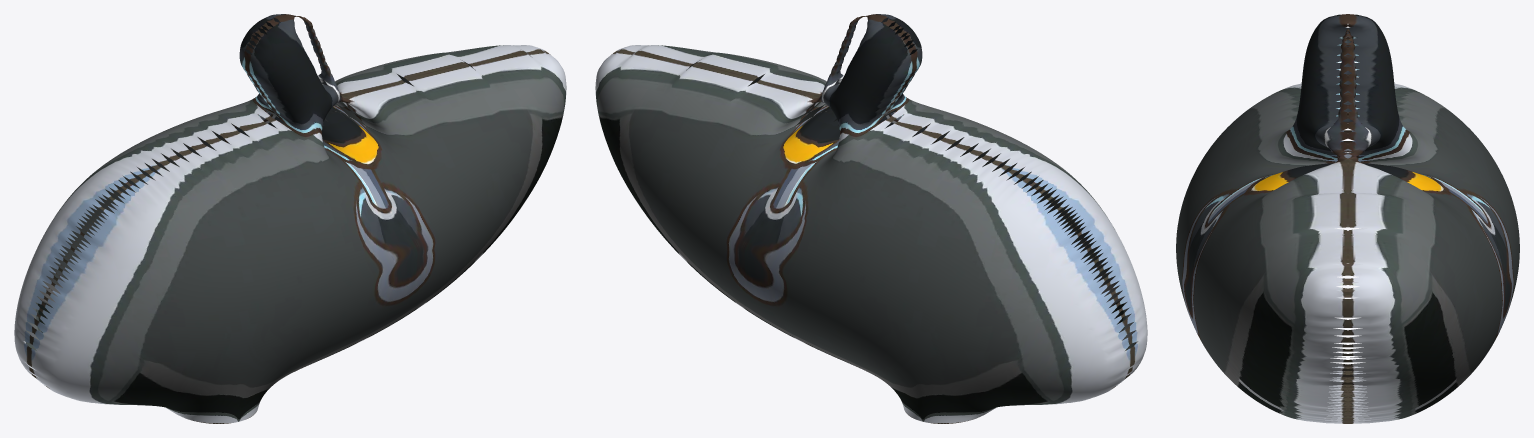
File: projector_assembly.glb
The picture shows the model from 3 angles, left to right: view 1: azimuth 30°, elevation 25°; view 2: azimuth 150°, elevation 25°; view 3: azimuth 270°, elevation 25°; orthographic projection. The views are drawn at different scales.
Parts seen in each view (by area): view 1: projector_assembly; view 2: projector_assembly; view 3: projector_assembly.
Part boxes in pixels (left/top/right/bottom): projector_assembly: left=14, top=14, right=566, bottom=423; projector_assembly: left=595, top=14, right=1147, bottom=423; projector_assembly: left=1176, top=14, right=1519, bottom=423.
Bounding box in the file's own units: 0.9889 × 0.5989 × 0.484.
1 material, 1 textured.
